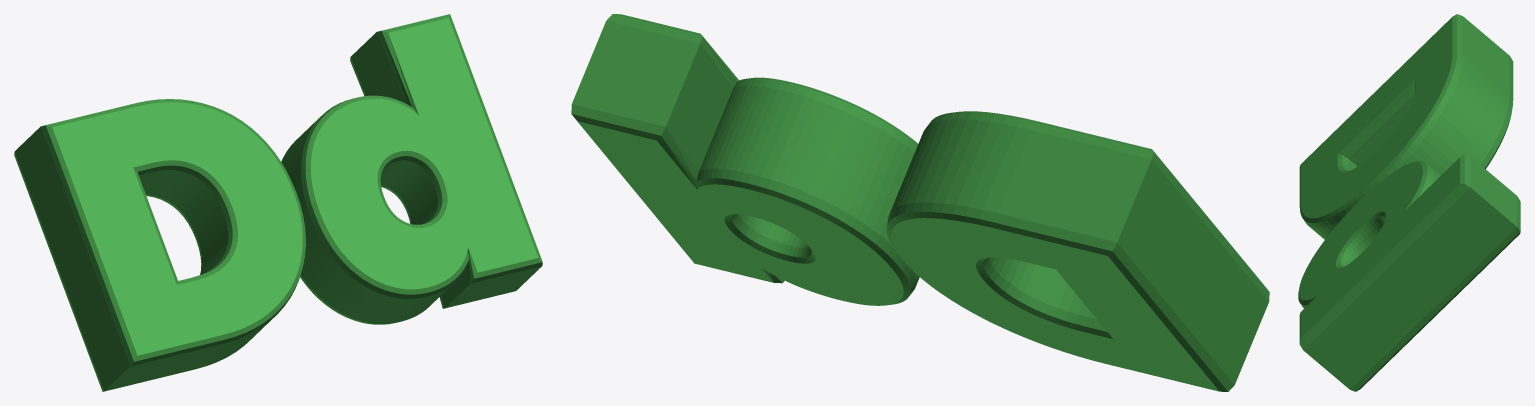
3 views of the same model, side by side, from view 1: azimuth 30°, elevation 25°; view 2: azimuth 150°, elevation 25°; view 3: azimuth 270°, elevation 25° (orthographic). The views are drawn at different scales.
Parts seen in each view (by area): view 1: letter; view 2: letter; view 3: letter.
Part boxes in pixels (bbox=[...]): letter: bbox=[14, 14, 542, 391]; letter: bbox=[571, 14, 1269, 391]; letter: bbox=[1298, 14, 1520, 391].
Size of the model in its own units: 1.86 by 1.01 by 0.9779.
